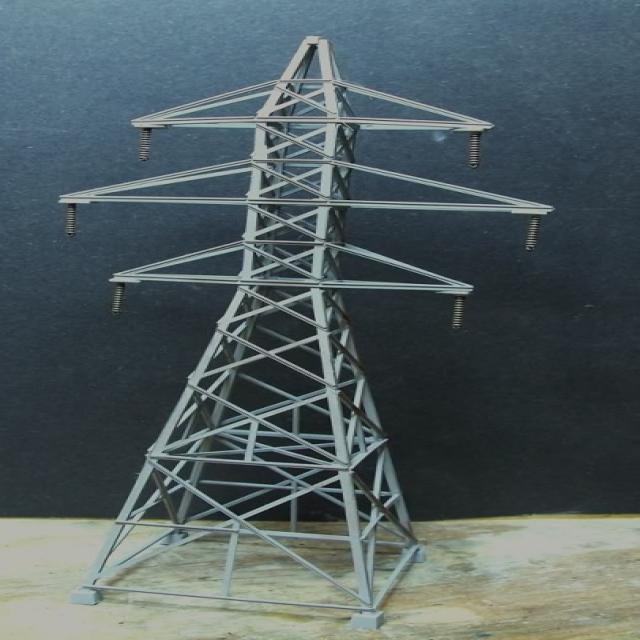non-critical vegetation: (38, 31, 560, 622)
